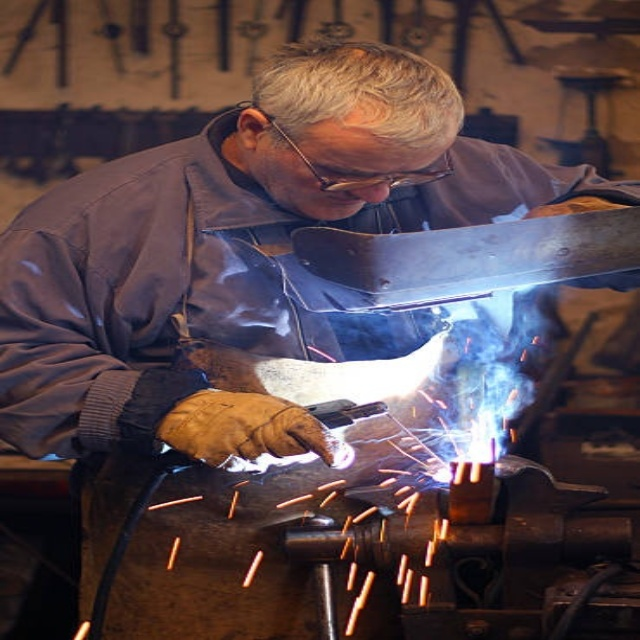Gafas: (264, 113, 452, 194)
Guantes: (155, 389, 347, 471)
Sin_mascara: (301, 193, 391, 221)
